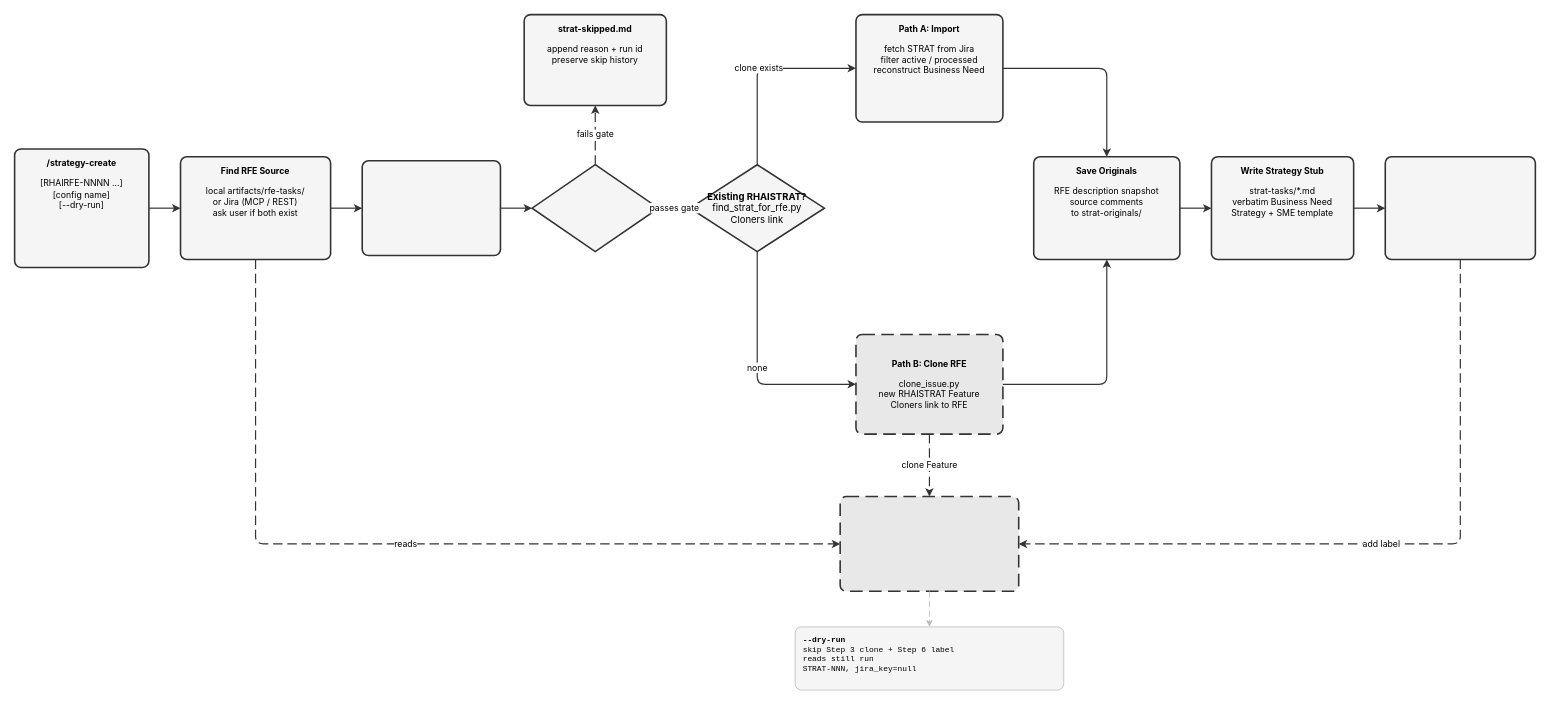
The diagram is 1549 pixels wide and 704 high, and some of its shapes have lost their labels. The centre of each missing label's shape, as x and y in pixels:
Apply Labels + Tickets strat-creator-auto-created write strat-tickets.md: (1460,208)
Jira (MCP / REST) getJiraIssue / JQL reads clone + label writes: (929,543)
Select RFEs all if IDs in args else present table + prompt: (431,208)
Status + Label Gate Closed / Resolved? required labels?: (595,208)
